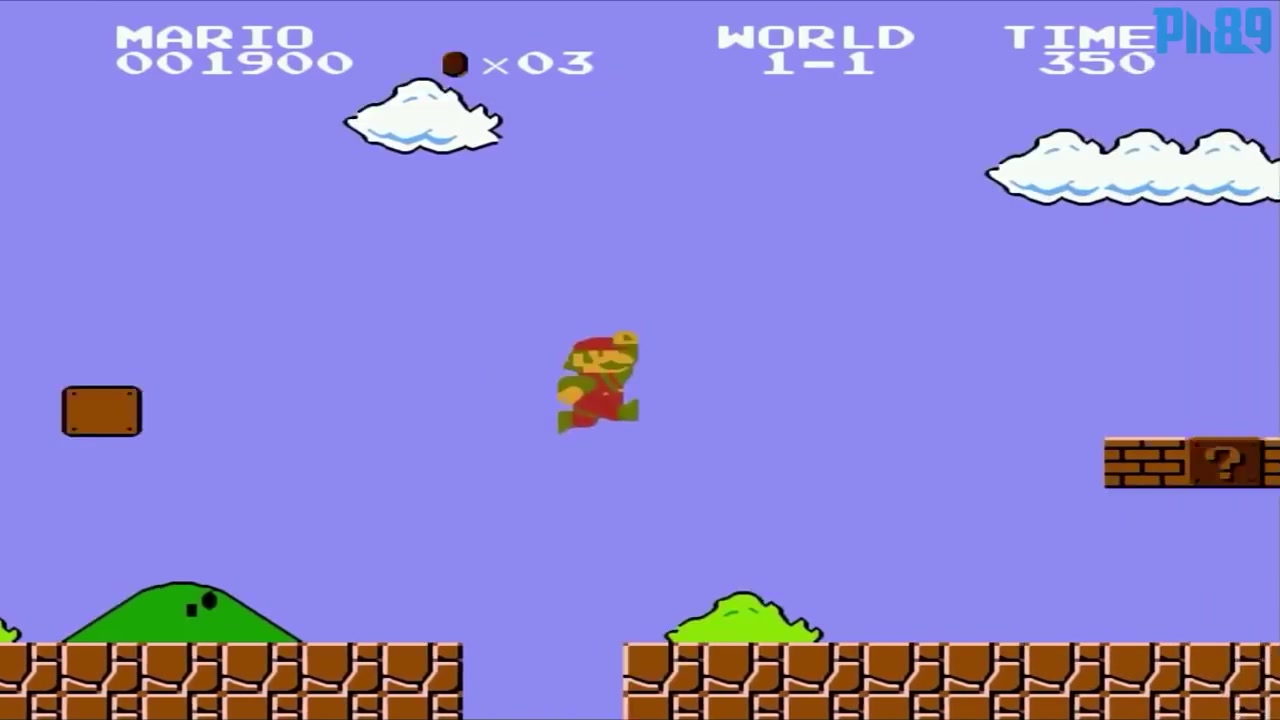mario: (547, 329, 647, 434)
